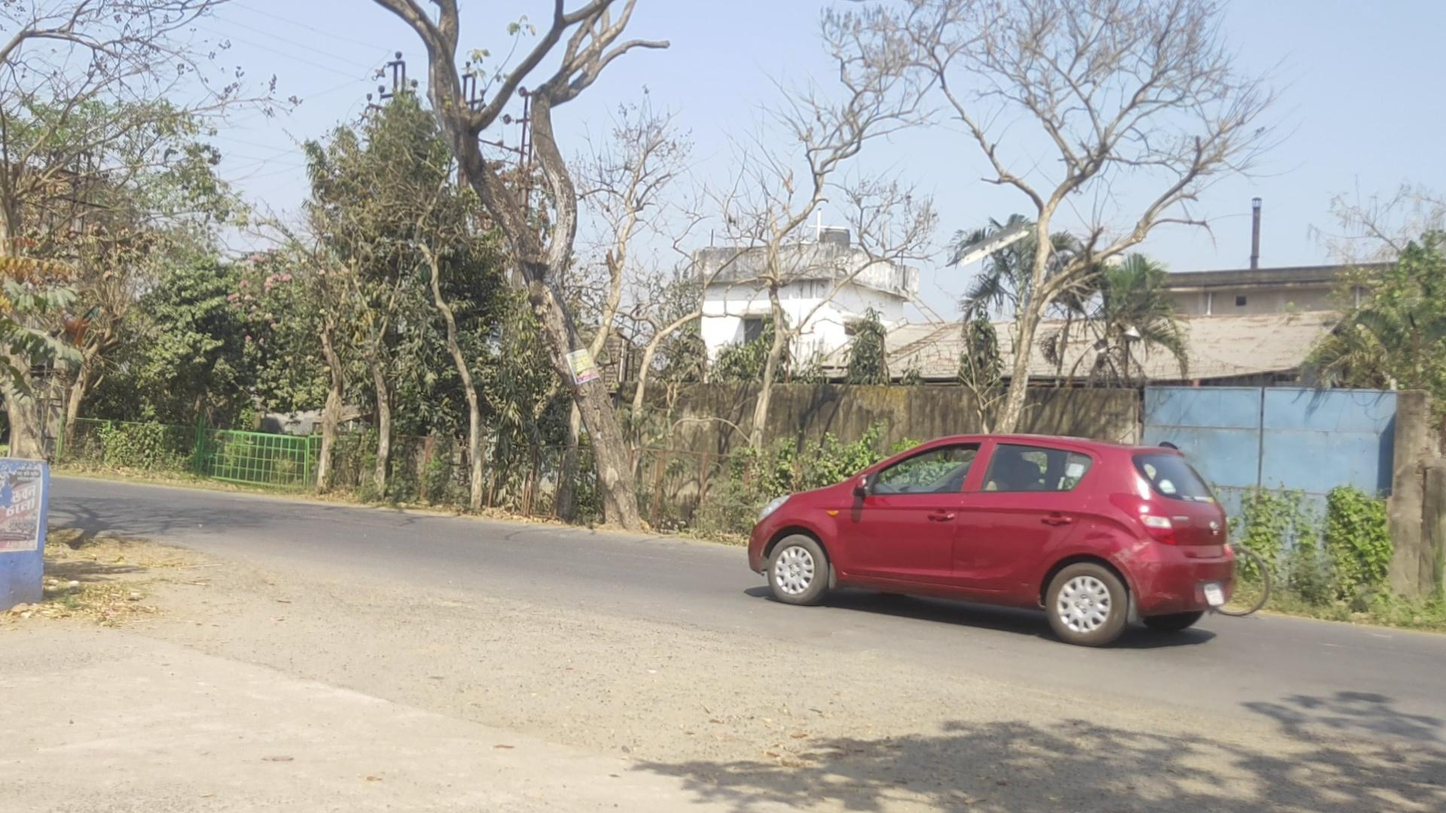car: (749, 433, 1237, 648)
